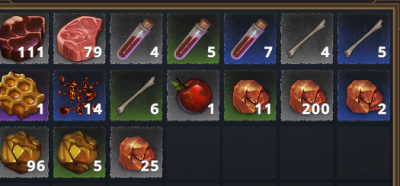aurelium ore: (52, 126, 104, 178), (1, 126, 51, 177)
blood: (223, 11, 276, 64), (167, 12, 219, 64), (110, 13, 161, 64)
bone: (336, 12, 389, 65), (281, 12, 333, 64), (111, 69, 162, 120)
chaos ember: (52, 70, 104, 122)
copper ore: (224, 70, 276, 122), (110, 126, 162, 178), (281, 70, 332, 121), (337, 70, 388, 121)
